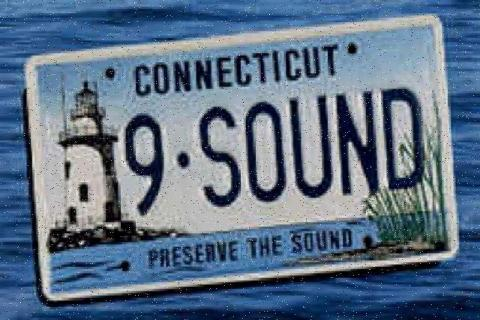LicensePlate: (94, 84, 438, 238)
